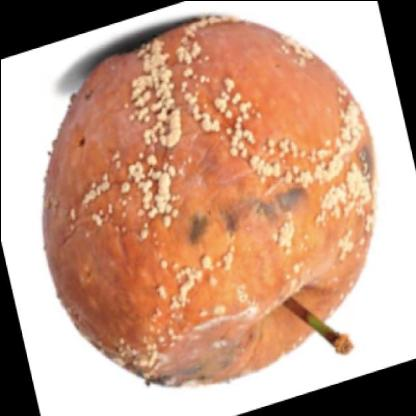defect: (42, 14, 372, 386)
